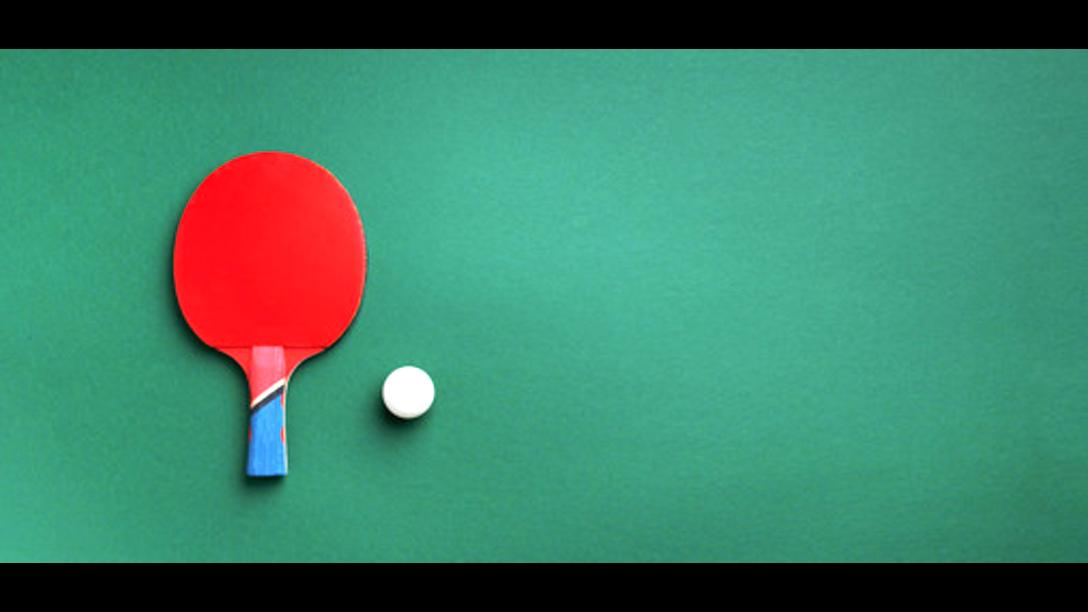Table-Tennis-Ball: (383, 368, 433, 418)
